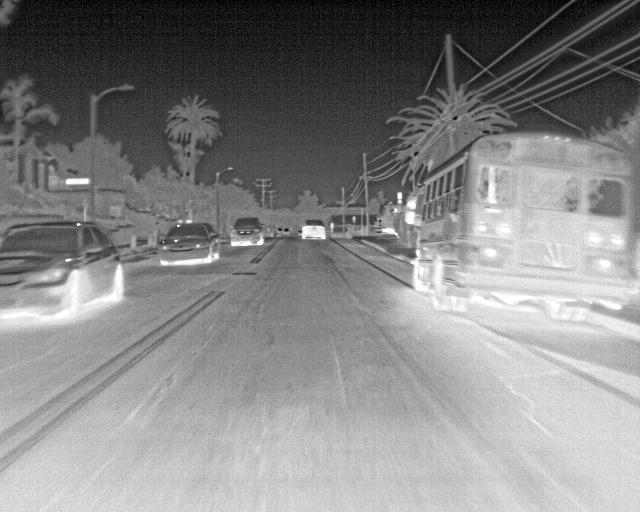car: (1, 221, 124, 317), (159, 221, 220, 268), (229, 218, 263, 248), (302, 218, 325, 239)
